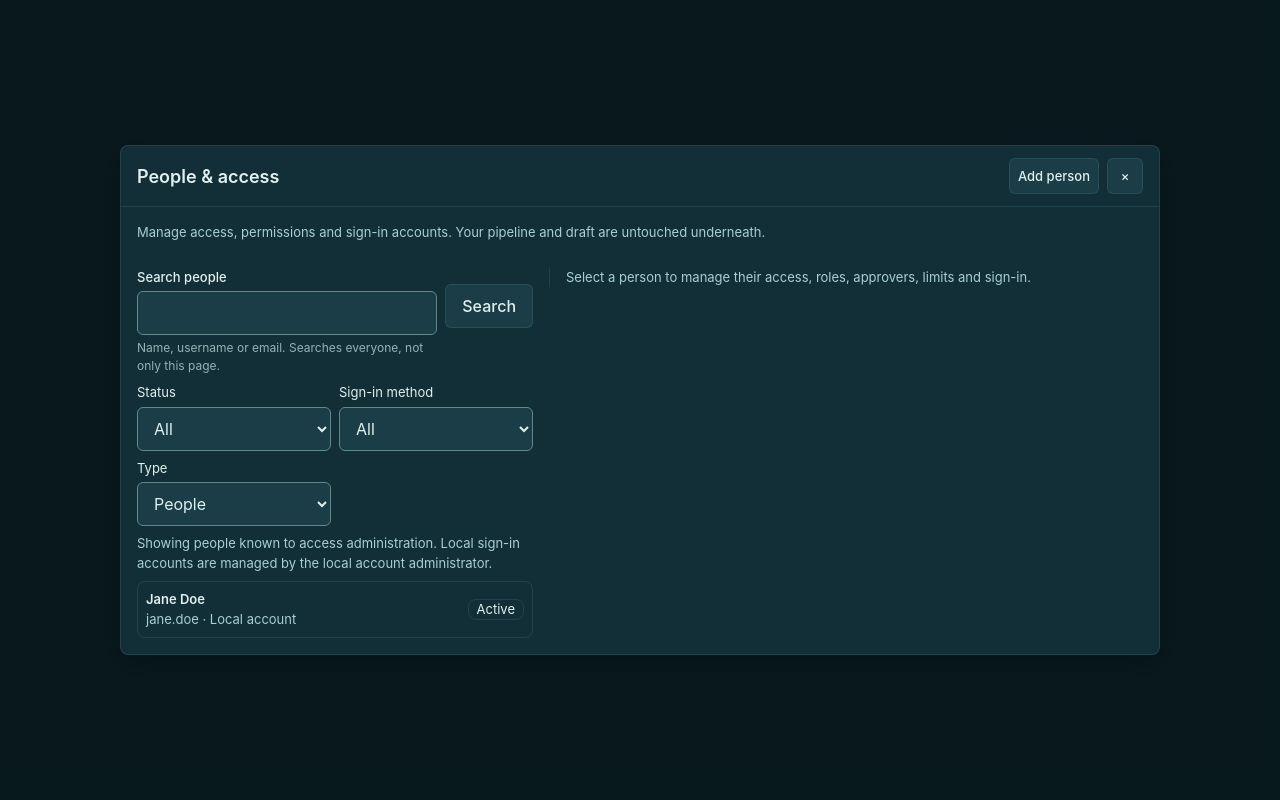
it: PeopleAccessDialog › shows an identity-only administrator no credential controls
Click the button "Jane Doe jane.doe · Local account Active". click: [175, 599]
box: [137,581,533,638]
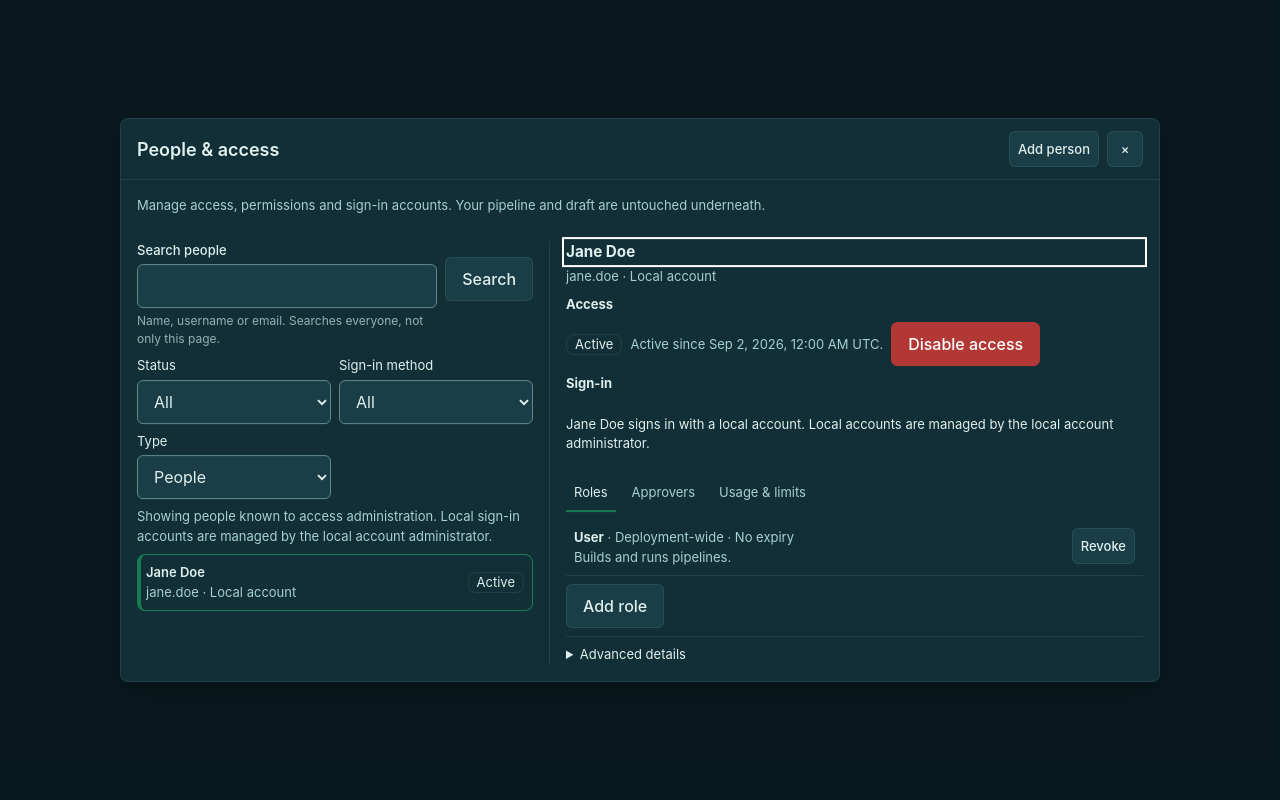
expect the element named "Sign-in for Jane Doe" shows "managed by the local account administrator": met, box [566,416,1114,451]
